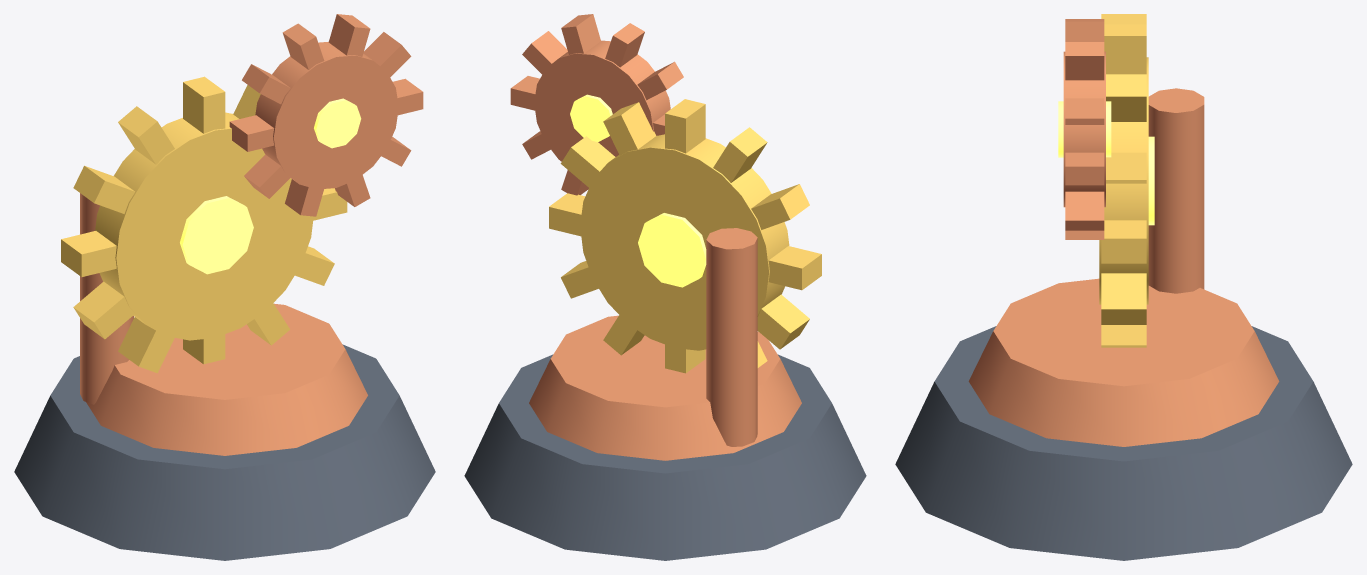
The model's file is prop_clockwork_gear.glb.
The picture shows the model from 3 angles, left to right: view 1: azimuth 30°, elevation 25°; view 2: azimuth 150°, elevation 25°; view 3: azimuth 270°, elevation 25°; orthographic projection. The views are drawn at different scales.
Visible parts, largest first — view 1: PropClockworkGear; view 2: PropClockworkGear; view 3: PropClockworkGear.
Part boxes in pixels (x1=…): PropClockworkGear: x1=14, y1=14, x2=435, y2=560; PropClockworkGear: x1=464, y1=14, x2=866, y2=560; PropClockworkGear: x1=895, y1=14, x2=1352, y2=560.
Bounding box in the file's own units: 0.7 × 0.805 × 0.7.
